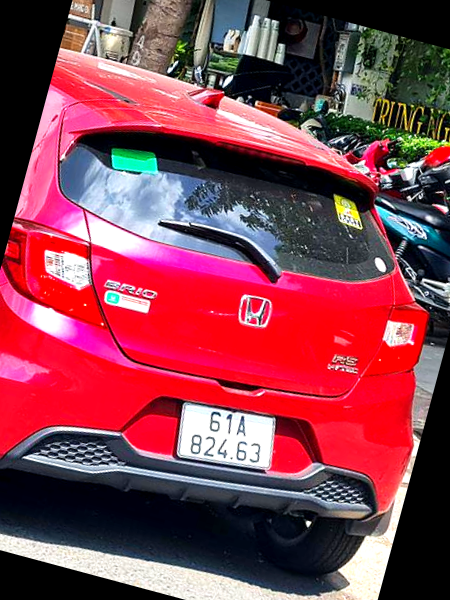lisence: (178, 401, 273, 472)
